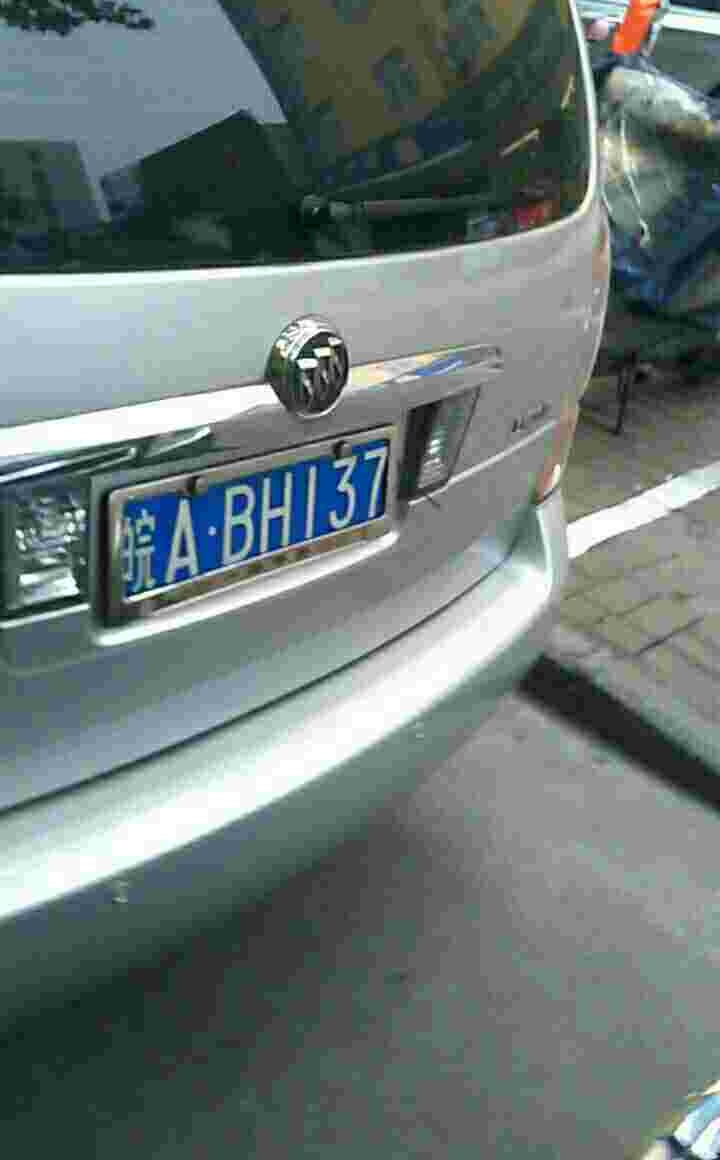license_plate: (121, 434, 402, 603)
